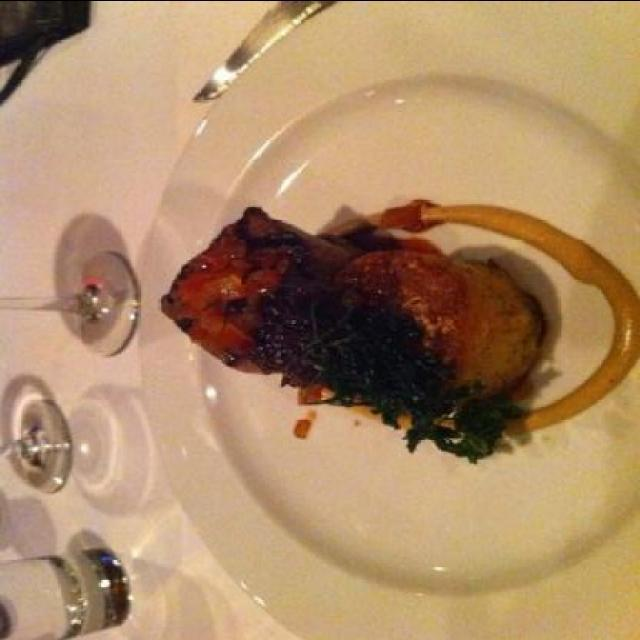Steak: (175, 172, 528, 464)
